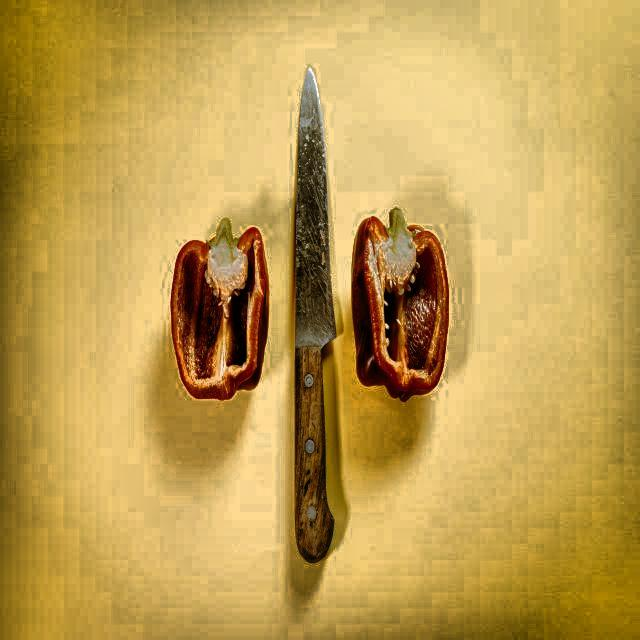knife: (287, 65, 349, 572)
